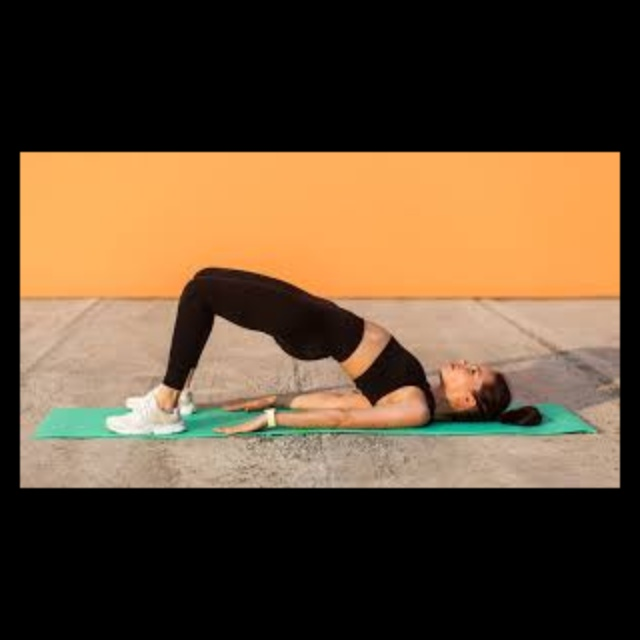Bridge_Pose: (103, 260, 553, 436)
